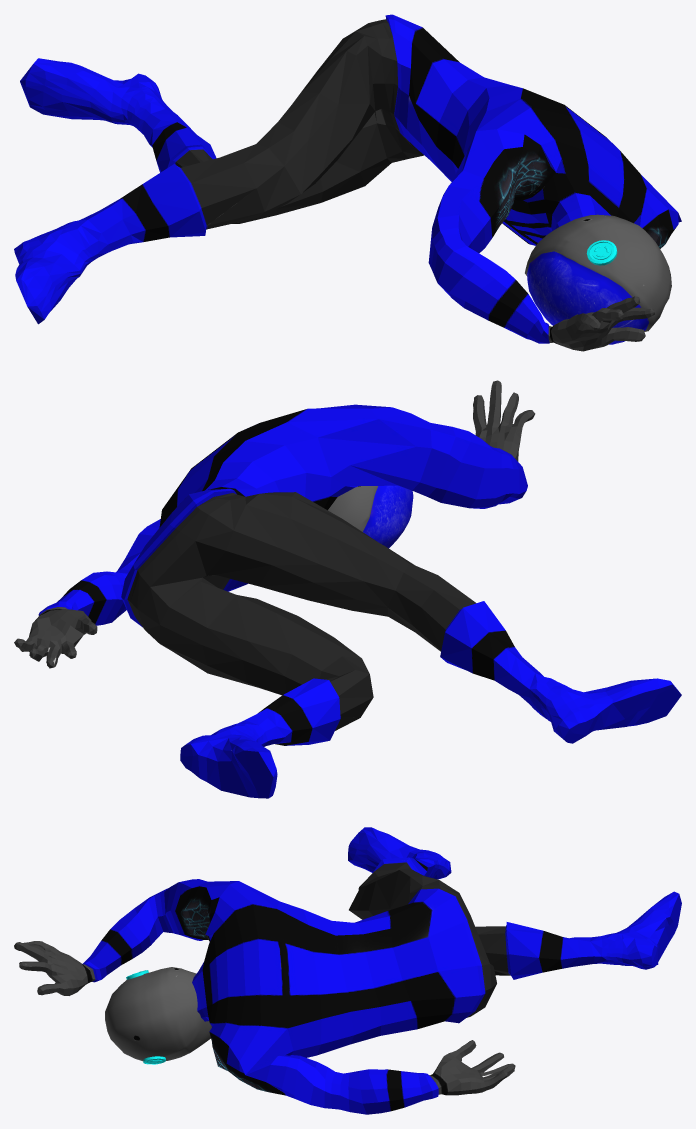
3 renders of one model, top to bottom at view 1: azimuth 30°, elevation 25°; view 2: azimuth 150°, elevation 25°; view 3: azimuth 270°, elevation 25°, orthographic. The views are drawn at different scales.
Parts seen in each view (by area): view 1: Piernas1, Brazos2, Cabeza1; view 2: Piernas1, Brazos2, Cabeza1; view 3: Brazos2, Piernas1, Cabeza1.
Part boxes in pixels (left/top/right/bottom): Piernas1: left=14, top=19, right=423, bottom=324; Brazos2: left=385, top=14, right=681, bottom=351; Cabeza1: left=525, top=214, right=671, bottom=344; Piernas1: left=127, top=492, right=681, bottom=798; Brazos2: left=14, top=380, right=535, bottom=668; Cabeza1: left=328, top=485, right=413, bottom=548; Brazos2: left=14, top=879, right=515, bottom=1114; Piernas1: left=348, top=827, right=681, bottom=1017; Cabeza1: left=105, top=967, right=211, bottom=1064.
Bounding box in the file's own units: 131 × 42.44 × 160.
